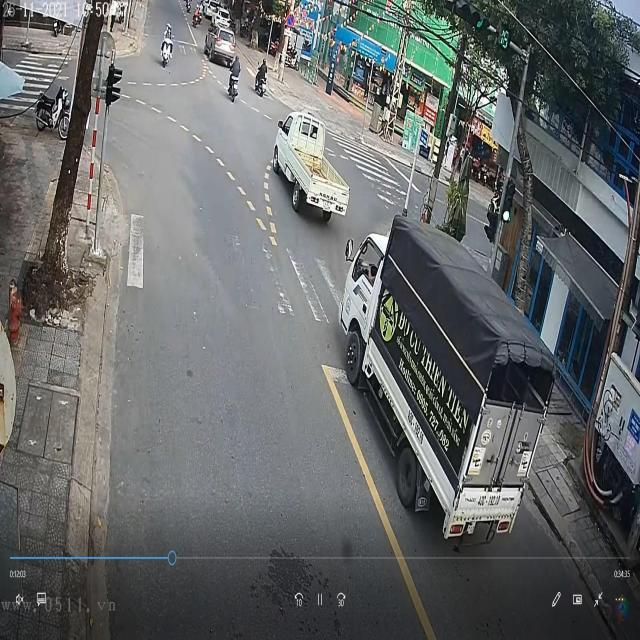car: (269, 112, 349, 222), (203, 28, 239, 67)
motorcycle: (226, 61, 241, 104), (159, 28, 174, 68), (254, 61, 268, 100)
truck: (337, 210, 558, 560)
